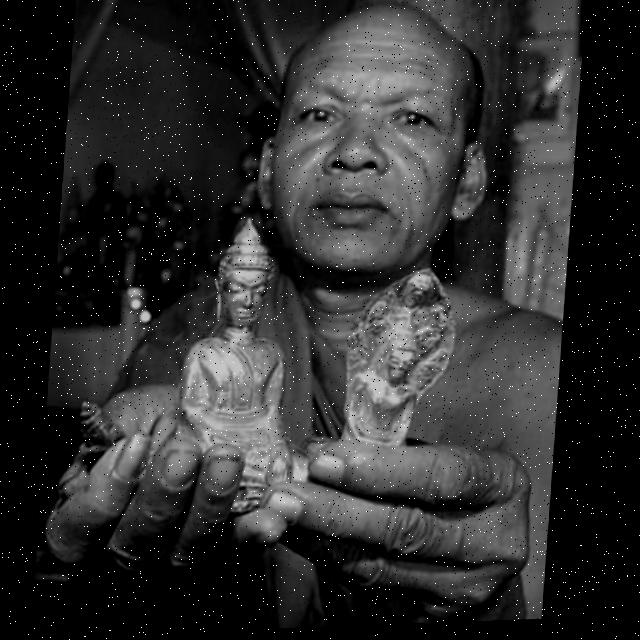face: (240, 3, 501, 283)
